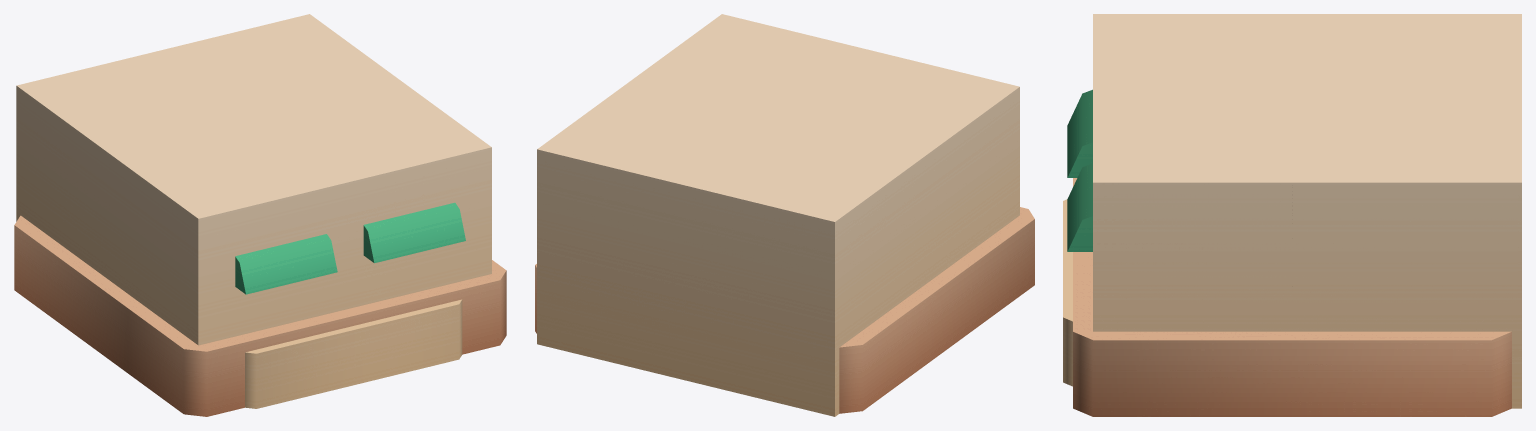
File: pieces.gltf
The picture shows the model from 3 angles, left to right: view 1: azimuth 30°, elevation 25°; view 2: azimuth 150°, elevation 25°; view 3: azimuth 270°, elevation 25°; orthographic projection. The views are drawn at different scales.
Parts seen in each view (by area): view 1: building-block, building-window-awnings, building-window-balcony, building-corner, roof-flat-top, building-window, building-windows, building-door, building-window-sill; view 2: building-block, building-window-balcony, building-window-awnings, roof-flat-top, building-corner; view 3: building-block, building-window-awnings, building-window-balcony, roof-flat-top, building-corner.
Boxes of the visible parts, x1,y1,x2,y2 form: building-block: (29, 23, 491, 345); building-window-awnings: (18, 15, 465, 336); building-window-balcony: (16, 14, 462, 408); building-corner: (29, 23, 405, 337); roof-flat-top: (14, 215, 506, 416); building-window: (198, 148, 491, 344); building-windows: (198, 147, 491, 342); building-door: (199, 148, 490, 342); building-window-sill: (198, 152, 491, 342); building-block: (552, 14, 1019, 340); building-window-balcony: (537, 24, 932, 416); building-window-awnings: (539, 22, 983, 415); roof-flat-top: (535, 207, 1034, 413); building-corner: (606, 50, 1017, 212); building-block: (1093, 14, 1491, 331); building-window-awnings: (1067, 14, 1517, 408); building-window-balcony: (1063, 14, 1521, 408); roof-flat-top: (1073, 178, 1511, 416); building-corner: (1093, 14, 1491, 331).
Size of the model in its own units: 1.1 by 0.65 by 1.15.
Materials: 1 (1 with a texture image).
